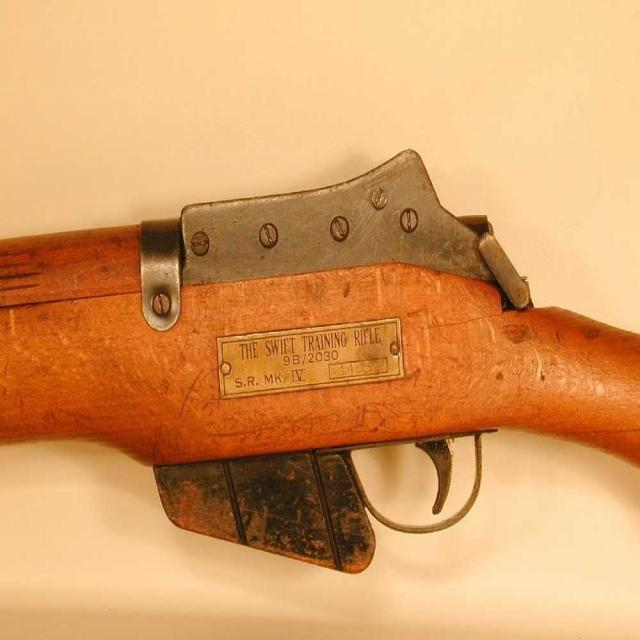weapon: (0, 163, 611, 579)
